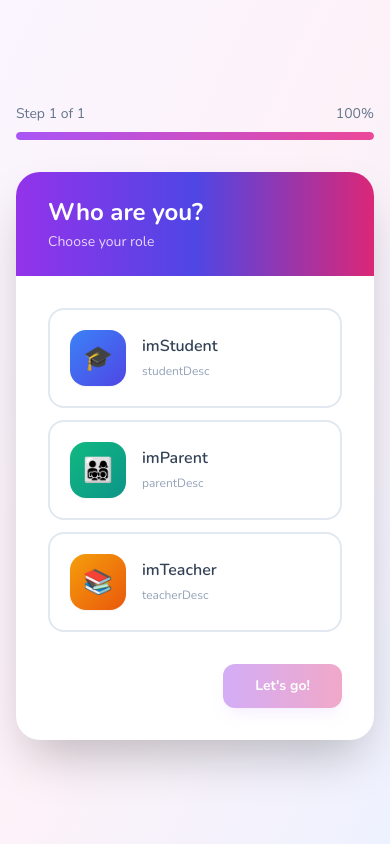
Test: OnboardingPage › parent flow goes through 6 steps
The image size is (390, 844).
What coordinates should you click on to do the following:
click the text "imParent"
I would click on:
 (175, 458)
Its box is [142, 446, 208, 470].
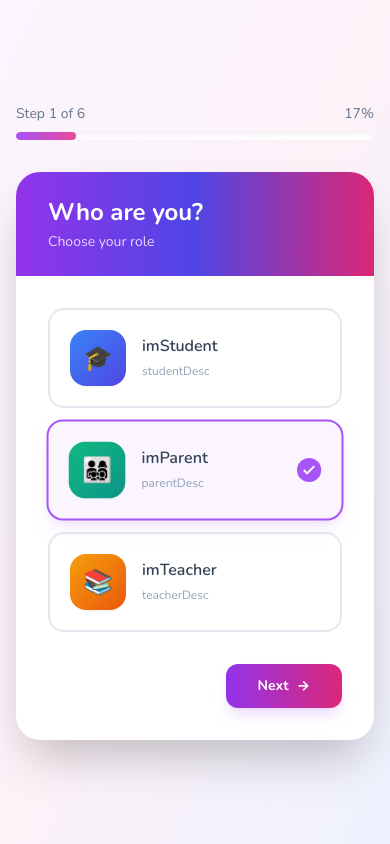
Expected: the text "Step 1 of 6" is shown, [16, 104, 85, 124]
